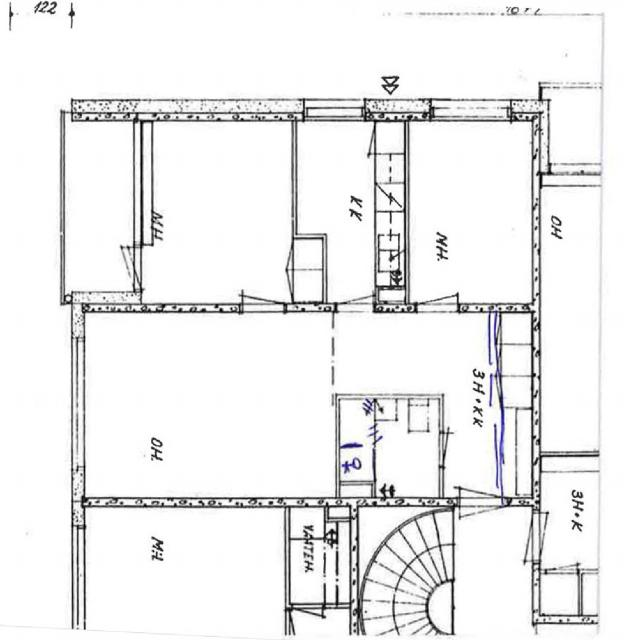door: (460, 498, 502, 551), (460, 453, 502, 506), (242, 260, 284, 312), (417, 260, 458, 312), (92, 247, 141, 289), (336, 264, 373, 311), (439, 434, 475, 466)
